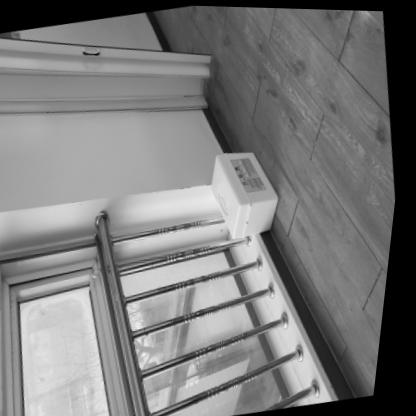DDL: (203, 142, 292, 242)
